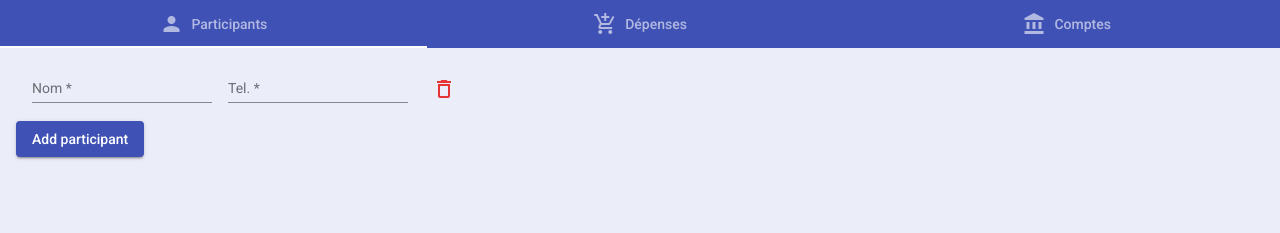
Scenario: When setting the participants › should delete participant
In the field with test id "input-name": (122, 89) [32,81,212,97], type "Joey"
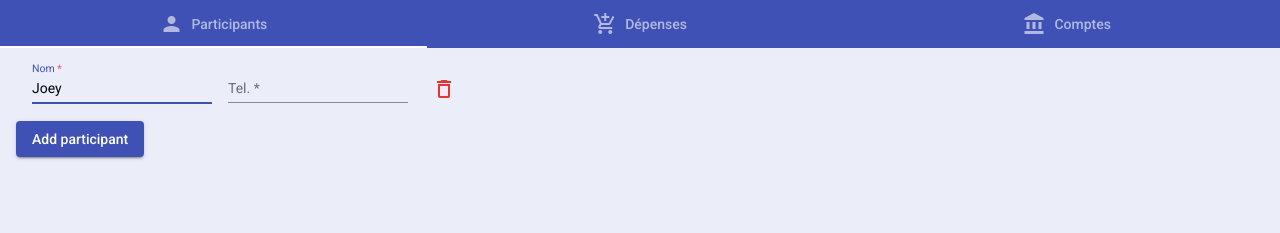
In the field with test id "input-phone": (318, 89) [228,81,408,97], type "0123456798"
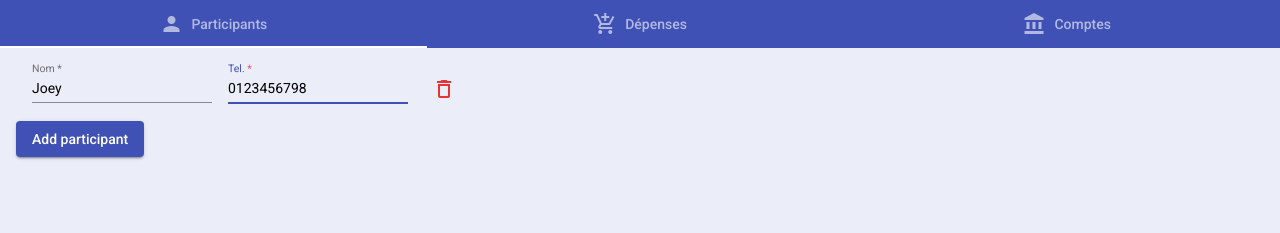
Click the button with test id "add-participant-button": (80, 139) [16,121,144,157]
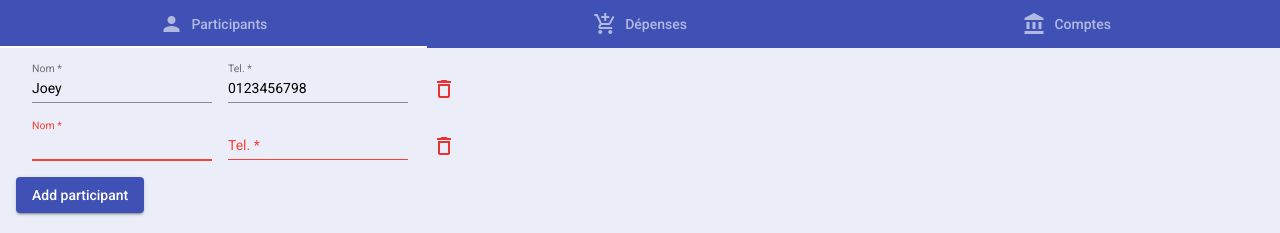
Expected: the number of elements with test id "participant-wrapper" is 2, [32,62,464,108]; [32,119,464,165]
Click the 1st button with test id "delete-participant-button": (444, 88) [424,68,464,108]
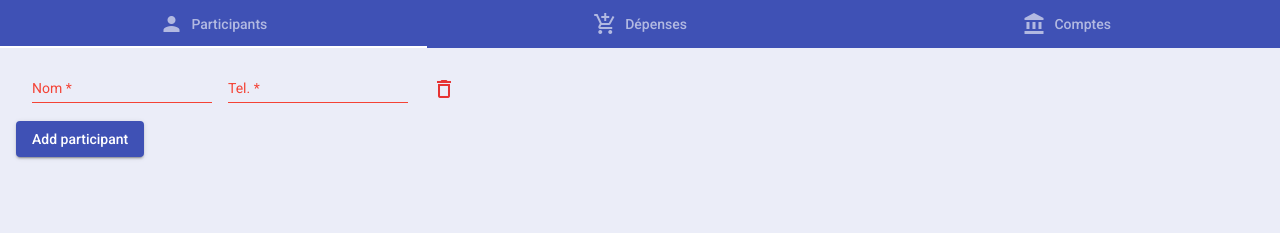
Expected: the number of elements with test id "participant-wrapper" is 1, [32,68,464,108]
